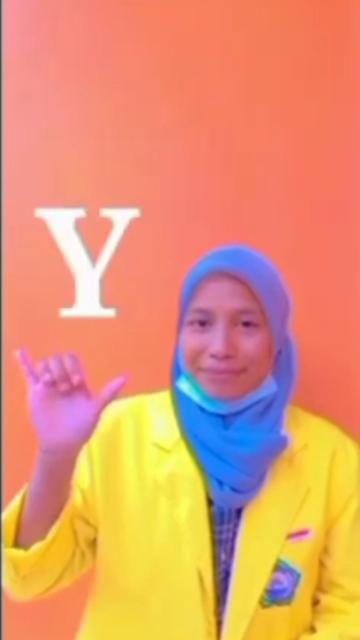Y: (11, 342, 128, 452)
